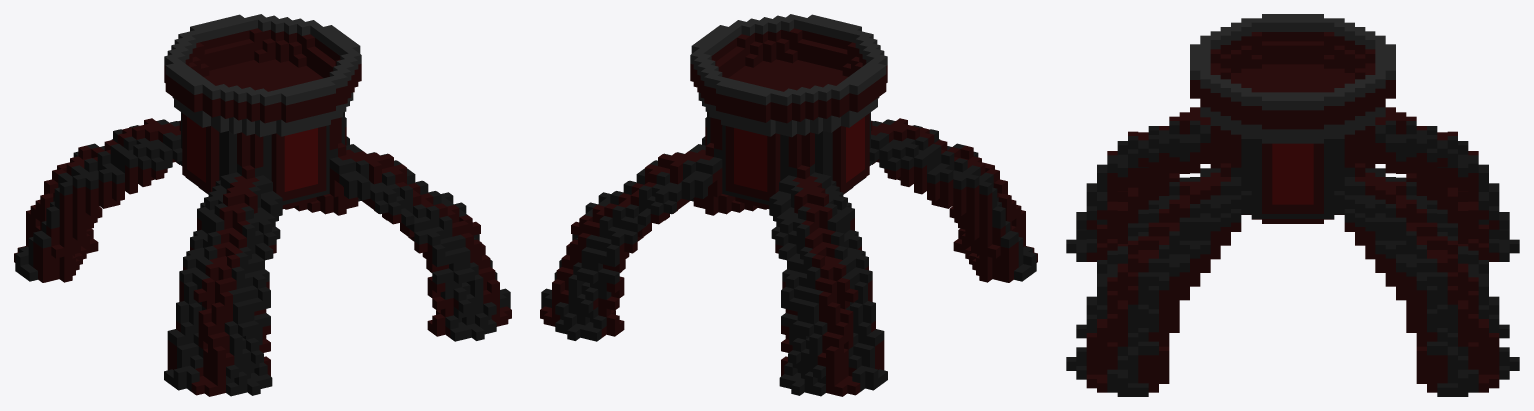
Rendered from projTowerBase.fbx.
3 views of the same model, side by side, from view 1: azimuth 30°, elevation 25°; view 2: azimuth 150°, elevation 25°; view 3: azimuth 270°, elevation 25° (orthographic). The views are drawn at different scales.
Parts seen in each view (by area): view 1: projTower_0; view 2: projTower_0; view 3: projTower_0.
Boxes of the visible parts, box(x1,y1,x2,y2) form: projTower_0: box(14, 14, 511, 396); projTower_0: box(540, 14, 1037, 396); projTower_0: box(1066, 14, 1519, 396).
Bounding box in the file's own units: 40 × 27 × 44.
Materials: 1 (1 with a texture image).
